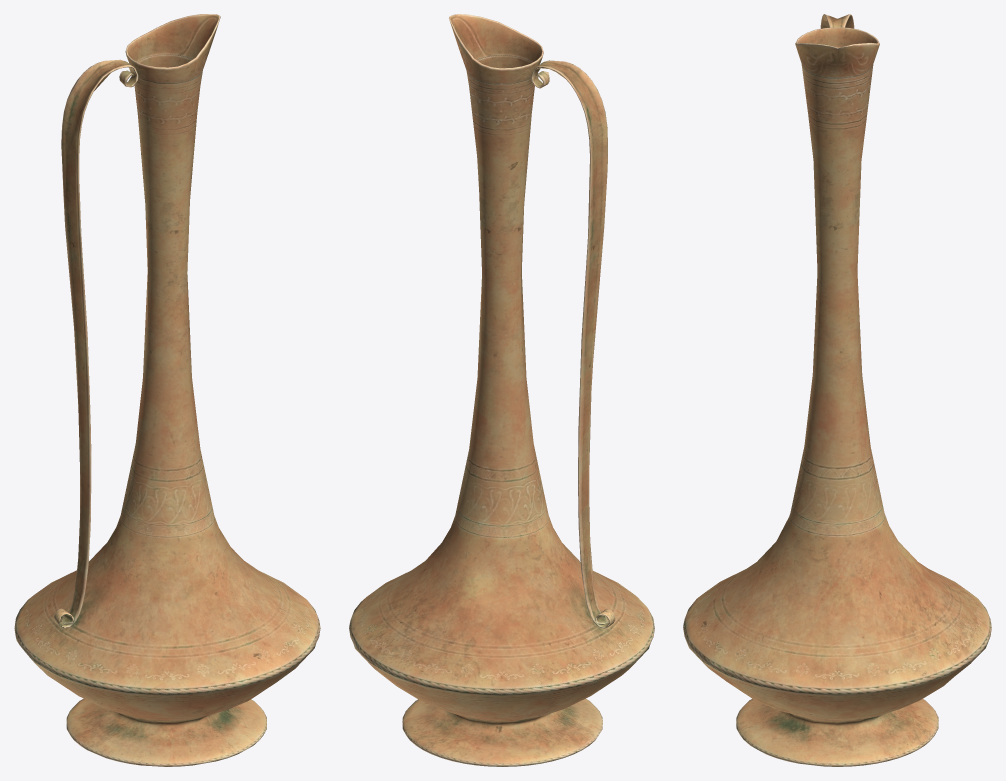
File: brass_vase_02_lod2.glb
The picture shows the model from 3 angles, left to right: view 1: azimuth 30°, elevation 25°; view 2: azimuth 150°, elevation 25°; view 3: azimuth 270°, elevation 25°; orthographic projection.
Parts seen in each view (by area): view 1: brass_vase_02; view 2: brass_vase_02; view 3: brass_vase_02.
Part boxes in pixels (x1=…): brass_vase_02: x1=14, y1=14, x2=320, y2=766; brass_vase_02: x1=349, y1=14, x2=654, y2=766; brass_vase_02: x1=683, y1=14, x2=991, y2=766.
Size of the model in its own units: 0.2102 by 0.5286 by 0.2102.
1 material, 1 textured.
